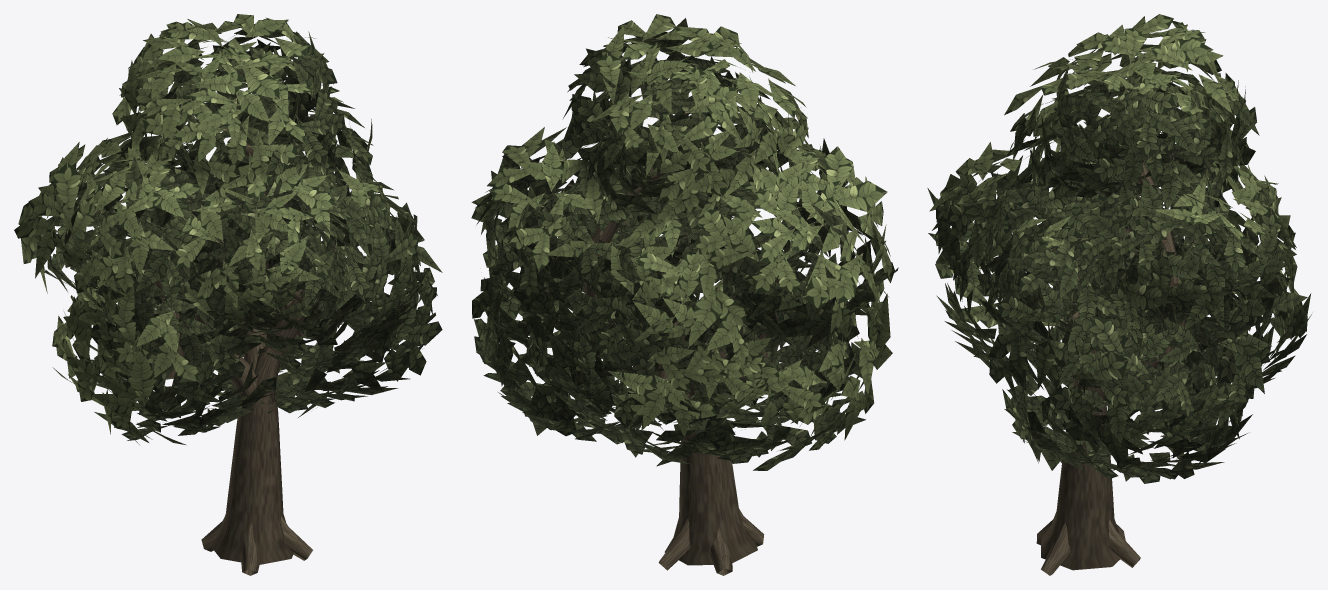
Rendered from tree_round.glb.
3 renders of one model, left to right at view 1: azimuth 30°, elevation 25°; view 2: azimuth 150°, elevation 25°; view 3: azimuth 270°, elevation 25°, orthographic. The views are drawn at different scales.
Visible parts, largest first — view 1: tree_round_lod0; view 2: tree_round_lod0; view 3: tree_round_lod0.
Boxes of the visible parts, left/top/right/bottom form: tree_round_lod0: left=14, top=14, right=442, bottom=575; tree_round_lod0: left=471, top=14, right=898, bottom=575; tree_round_lod0: left=927, top=14, right=1311, bottom=575.
Bounding box in the file's own units: 2.16 × 2.76 × 1.86.
1 material, 1 textured.
